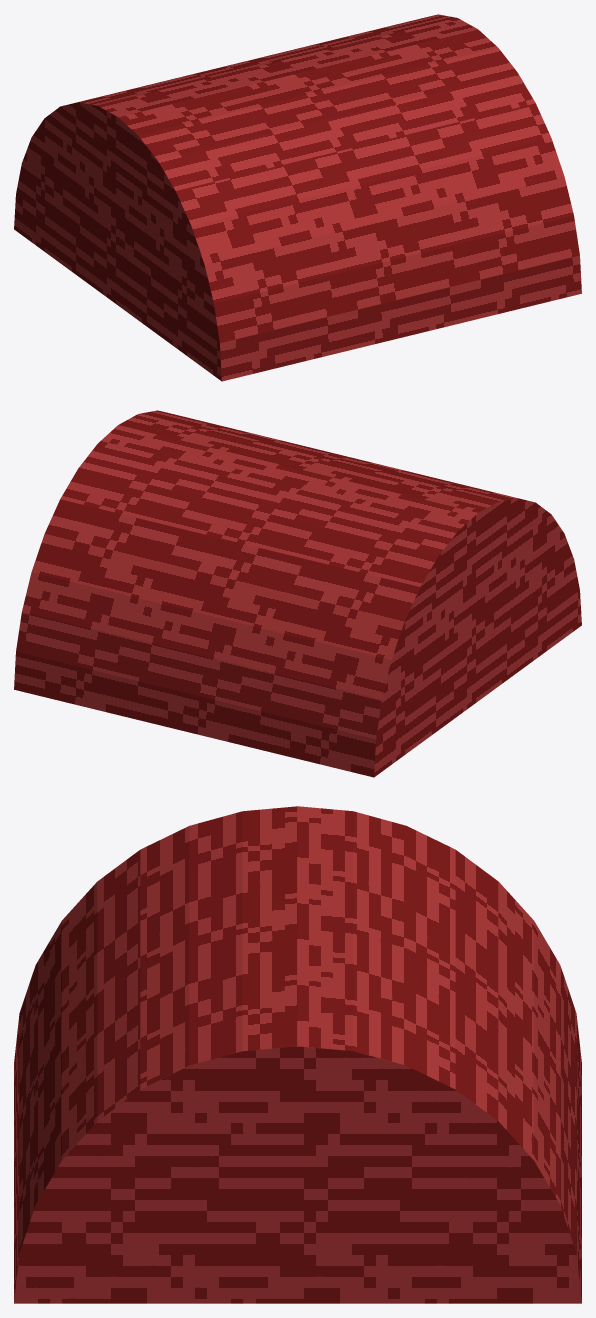
Rendered from semicircleblock_red.gltf.
The picture shows the model from 3 angles, top to bottom: view 1: azimuth 30°, elevation 25°; view 2: azimuth 150°, elevation 25°; view 3: azimuth 270°, elevation 25°; orthographic projection. The views are drawn at different scales.
Visible parts, largest first — view 1: Cylinder; view 2: Cylinder; view 3: Cylinder.
Boxes of the visible parts, box(x1,y1,x2,y2) form: Cylinder: box(14, 14, 581, 381); Cylinder: box(14, 410, 581, 777); Cylinder: box(14, 806, 581, 1303).
Bounding box in the file's own units: 2 × 1 × 2.
1 material, 1 textured.
